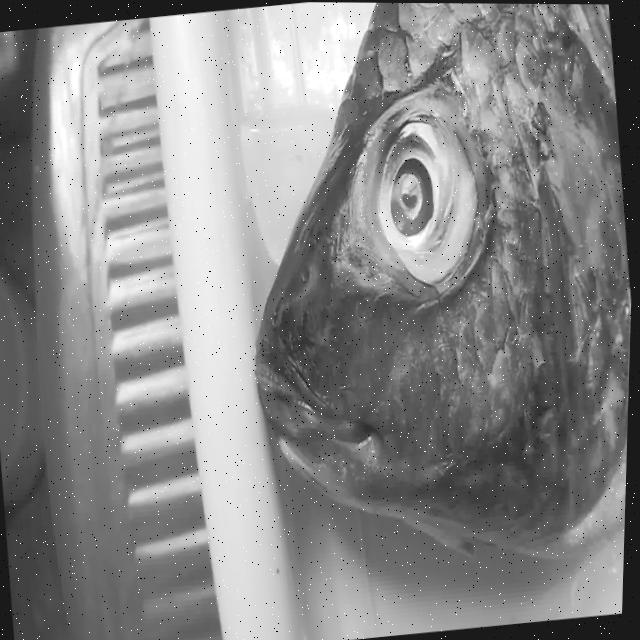Fresh: (341, 74, 499, 321)
